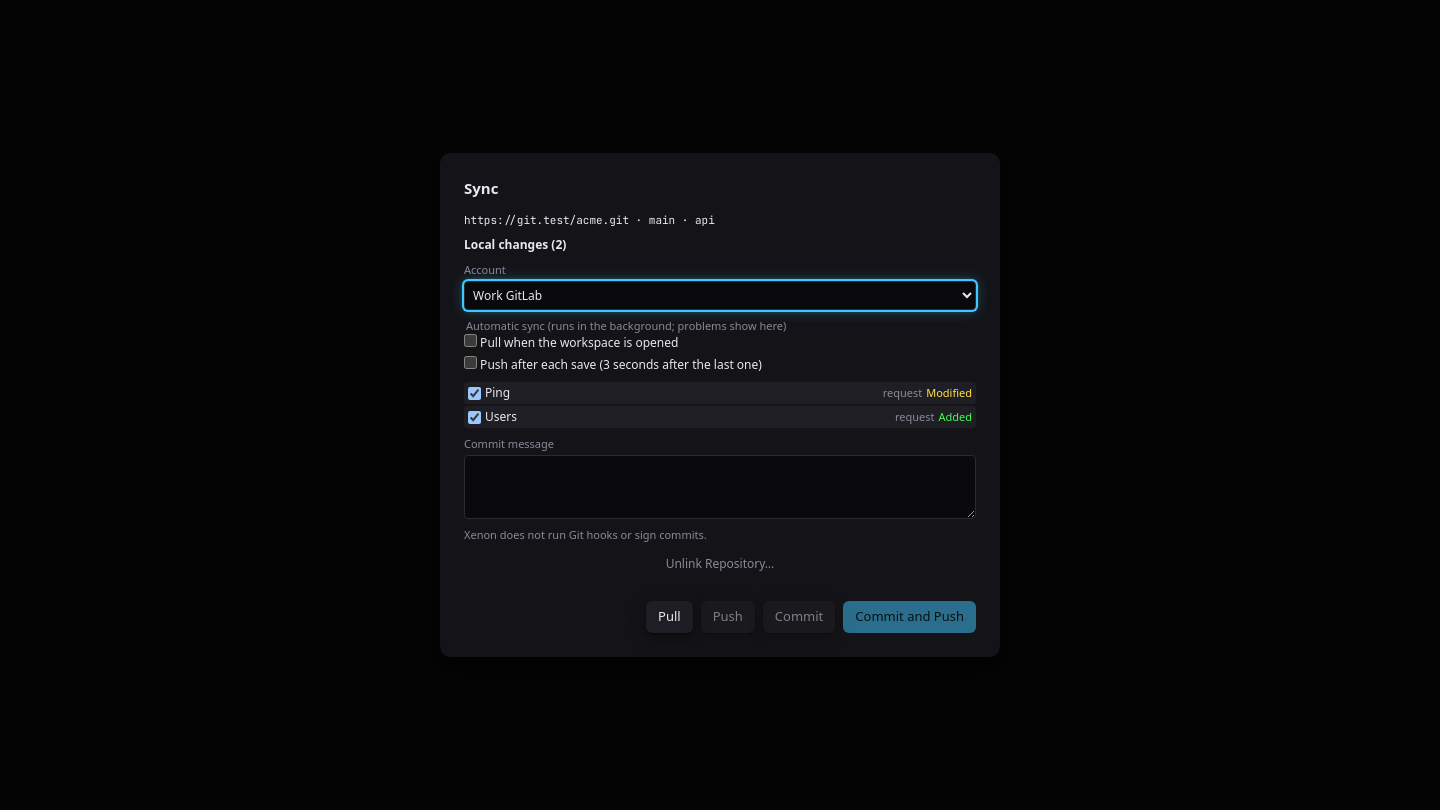
Test: sync UI › lists the changes with checkboxes and commits and pushes the checked ones
The image size is (1440, 810).
Check: the text "Ping" is shown, box [485, 384, 510, 401]
Check: the text "Added" is shown, box [938, 409, 972, 425]
Click the checkbox labelled "Users request Added" at (474, 417), box [468, 410, 481, 424]
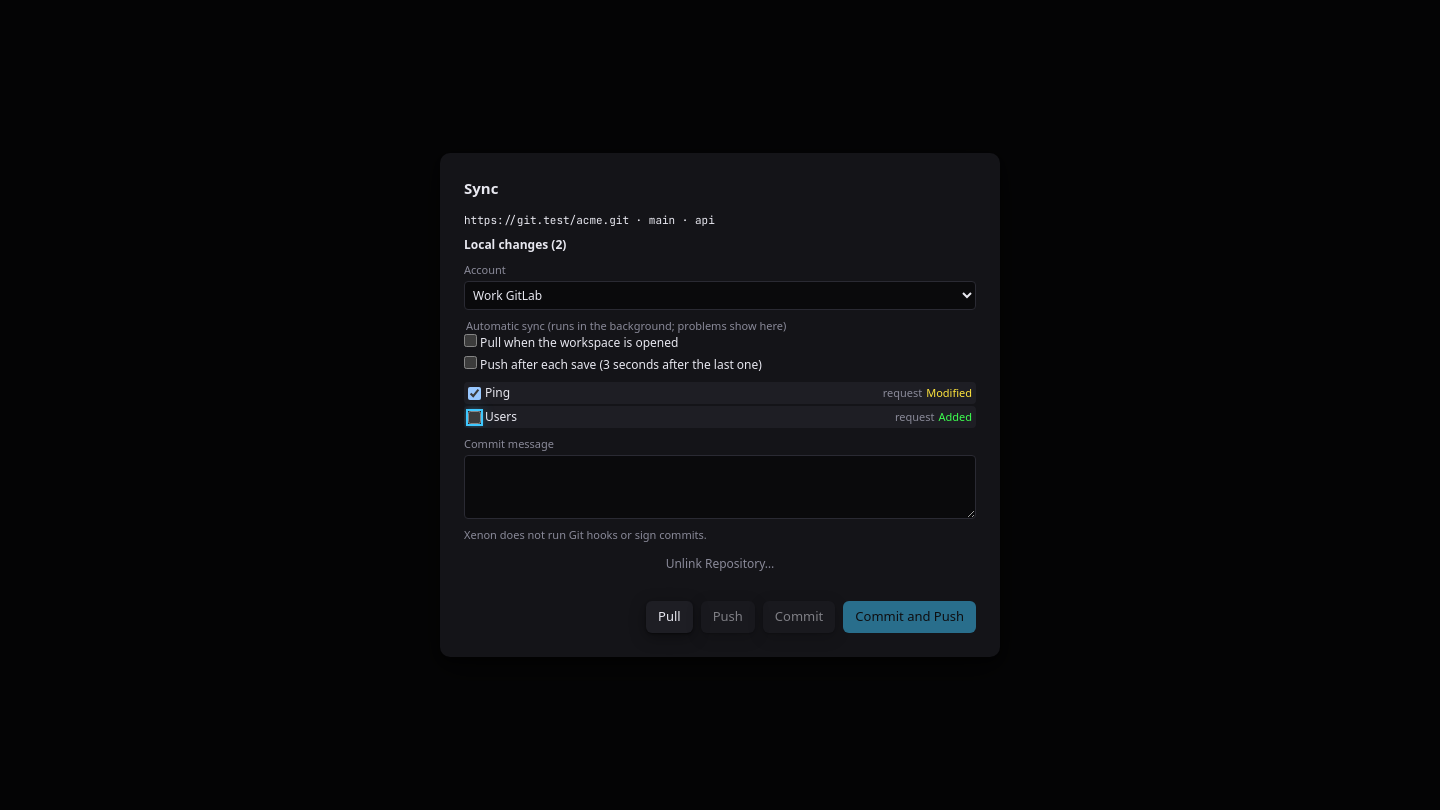
Type "Ping with HEAD" into the text box labelled "Commit message" at (720, 486), box [464, 454, 976, 518]
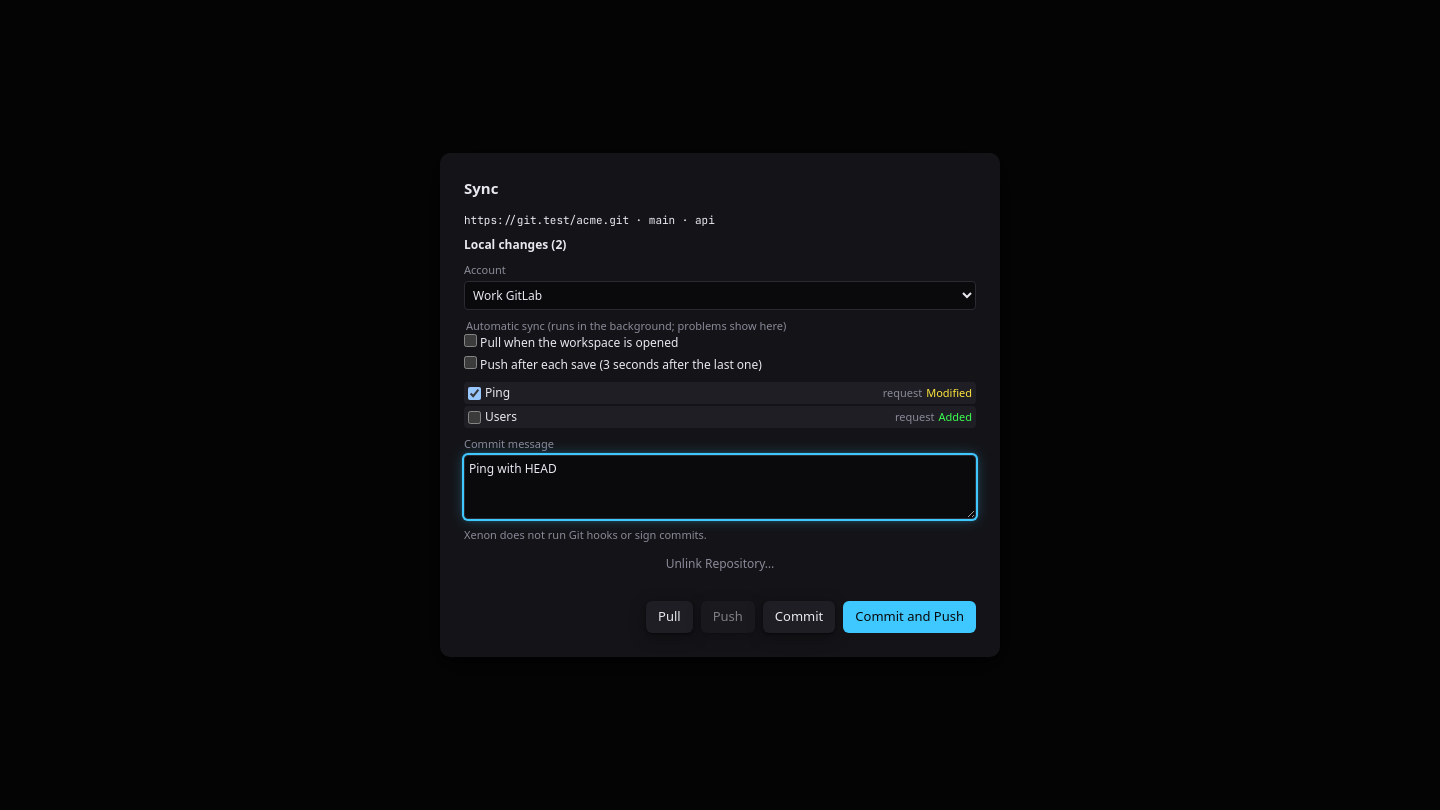
Click the button "Commit and Push" at (910, 617), box [843, 601, 976, 633]
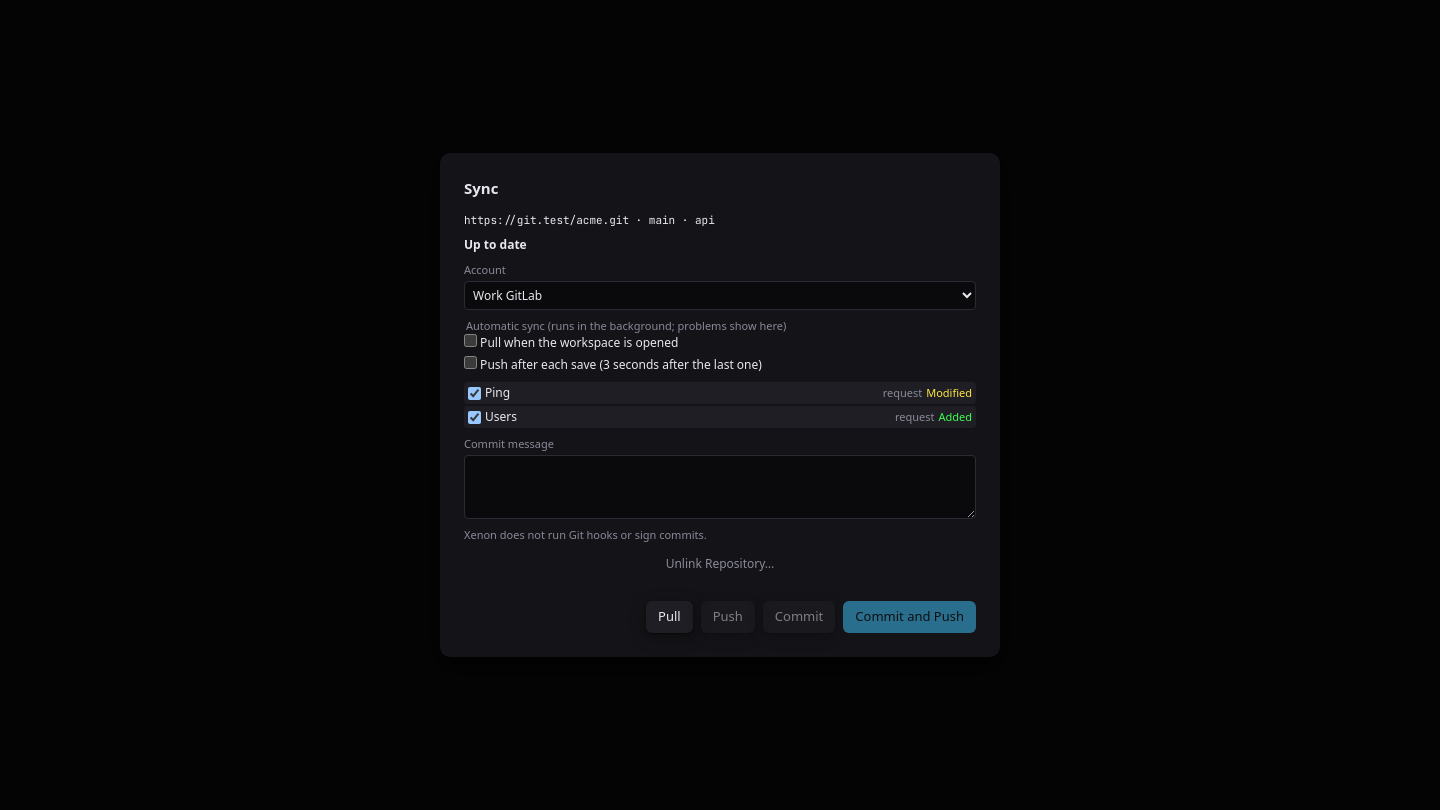
Check: the text "Xenon does not run Git hooks or sign commits." is shown, box [464, 526, 707, 542]
Check: the text "Up to date" is shown, box [464, 236, 527, 253]
